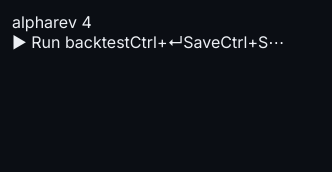
Scenario: GraphToolbar › renames inline from the name crumb; Esc reverts
Click the button with test id "nb-graph-name" at x=33, y=22, box [12,12,53,32]
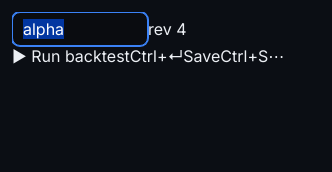
Replace the text in the field with test id "nb-graph-name-input" with "beta" at x=80, y=29, box [12,12,148,46]
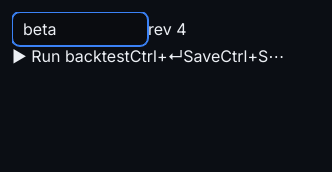
Press Enter in the field with test id "nb-graph-name-input", box [12,12,148,46]
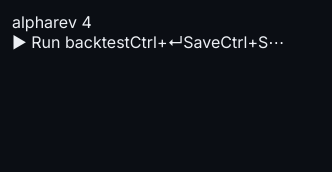
Now the field with test id "nb-graph-name-input" is gone
Click the button with test id "nb-graph-name" at x=33, y=22, box [12,12,53,32]
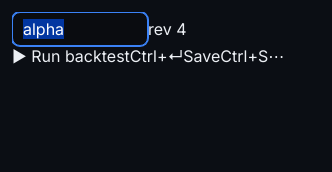
Press Escape in the field with test id "nb-graph-name-input", box [12,12,148,46]
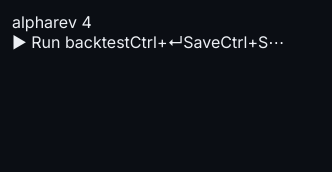
Now the field with test id "nb-graph-name-input" is gone
